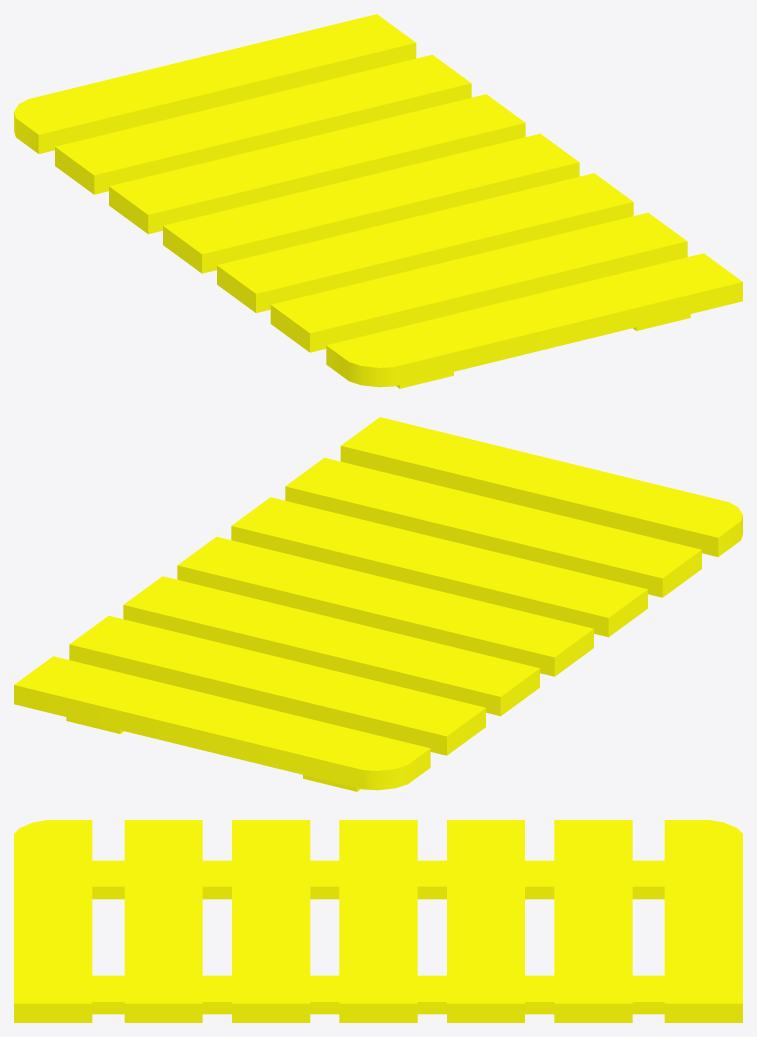
File: SM_Board01.glb
The picture shows the model from 3 angles, top to bottom: view 1: azimuth 30°, elevation 25°; view 2: azimuth 150°, elevation 25°; view 3: azimuth 270°, elevation 25°; orthographic projection.
Parts seen in each view (by area): view 1: SM_Board01; view 2: SM_Board01; view 3: SM_Board01.
Boxes of the visible parts, x1=… form: SM_Board01: x1=14, y1=14, x2=742, y2=388; SM_Board01: x1=14, y1=417, x2=742, y2=791; SM_Board01: x1=14, y1=820, x2=742, y2=1022.
Size of what is drawn, in the model's own units: 0.4051 by 0.0329 by 0.6804.
1 material, 1 textured.
